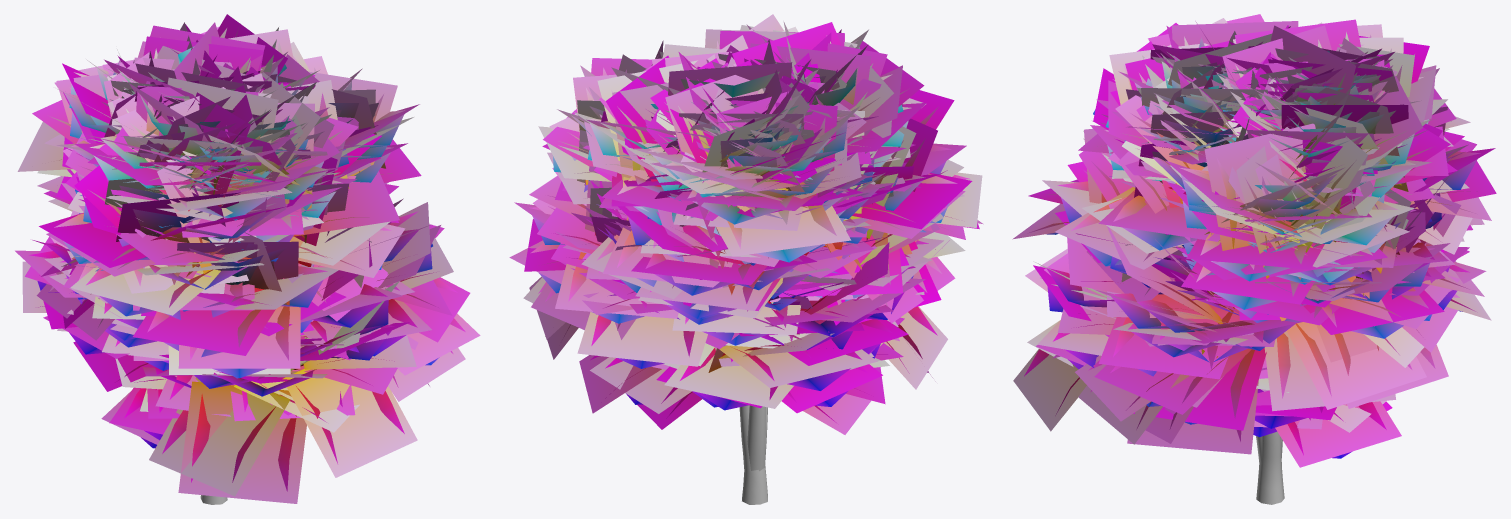
Rendered from oak_02_3.fbx.
The picture shows the model from 3 angles, left to right: view 1: azimuth 30°, elevation 25°; view 2: azimuth 150°, elevation 25°; view 3: azimuth 270°, elevation 25°; orthographic projection. The views are drawn at different scales.
Visible parts, largest first — view 1: oak_leaves_02_3_shadow, oak_leaves_02_3_lod_0; view 2: oak_leaves_02_3_shadow, oak_leaves_02_3_lod_0, oak_tree_02_3_lod_0; view 3: oak_leaves_02_3_shadow, oak_leaves_02_3_lod_0, oak_tree_02_3_lod_0.
Part boxes in pixels (<box>): oak_leaves_02_3_shadow: <box>15,14,480,503</box>; oak_leaves_02_3_lod_0: <box>29,28,465,491</box>; oak_leaves_02_3_shadow: <box>509,14,983,434</box>; oak_leaves_02_3_lod_0: <box>525,28,970,422</box>; oak_tree_02_3_lod_0: <box>739,405,767,504</box>; oak_leaves_02_3_shadow: <box>1012,14,1496,467</box>; oak_leaves_02_3_lod_0: <box>1024,32,1480,458</box>; oak_tree_02_3_lod_0: <box>1256,431,1284,504</box>.
Size of what is drawn, in the model's own units: 14.63 by 15.5 by 14.98.
